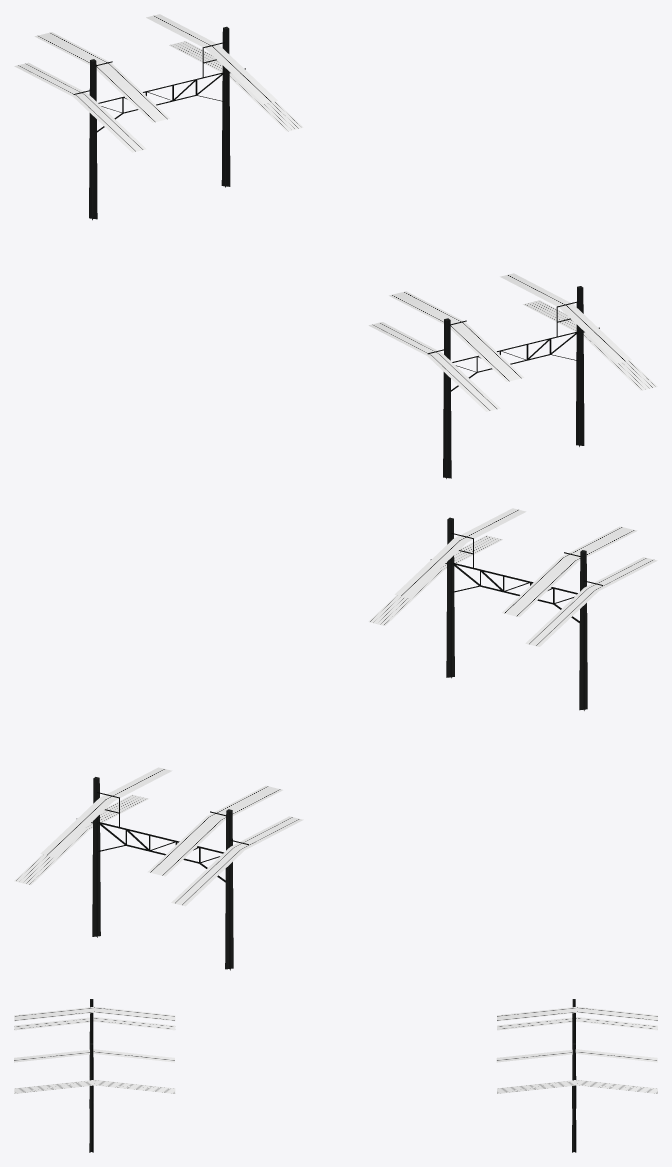
The model's file is AMB_BK_KASENCHU2.glb.
The picture shows the model from 3 angles, top to bottom: view 1: azimuth 30°, elevation 25°; view 2: azimuth 150°, elevation 25°; view 3: azimuth 270°, elevation 25°; orthographic projection. The views are drawn at different scales.
Parts seen in each view (by area): view 1: J01, J00; view 2: J00, J01; view 3: J01, J00.
Boxes of the visible parts, x1,y1,x2,y2 form: J01: (368,273,657,478); J00: (14,14,303,220); J00: (14,767,303,970); J01: (368,508,657,710); J01: (14,999,175,1152); J00: (496,999,657,1152).
Bounding box in the file's own units: 42.44 × 37.03 × 200.
4 materials, 4 textured.
